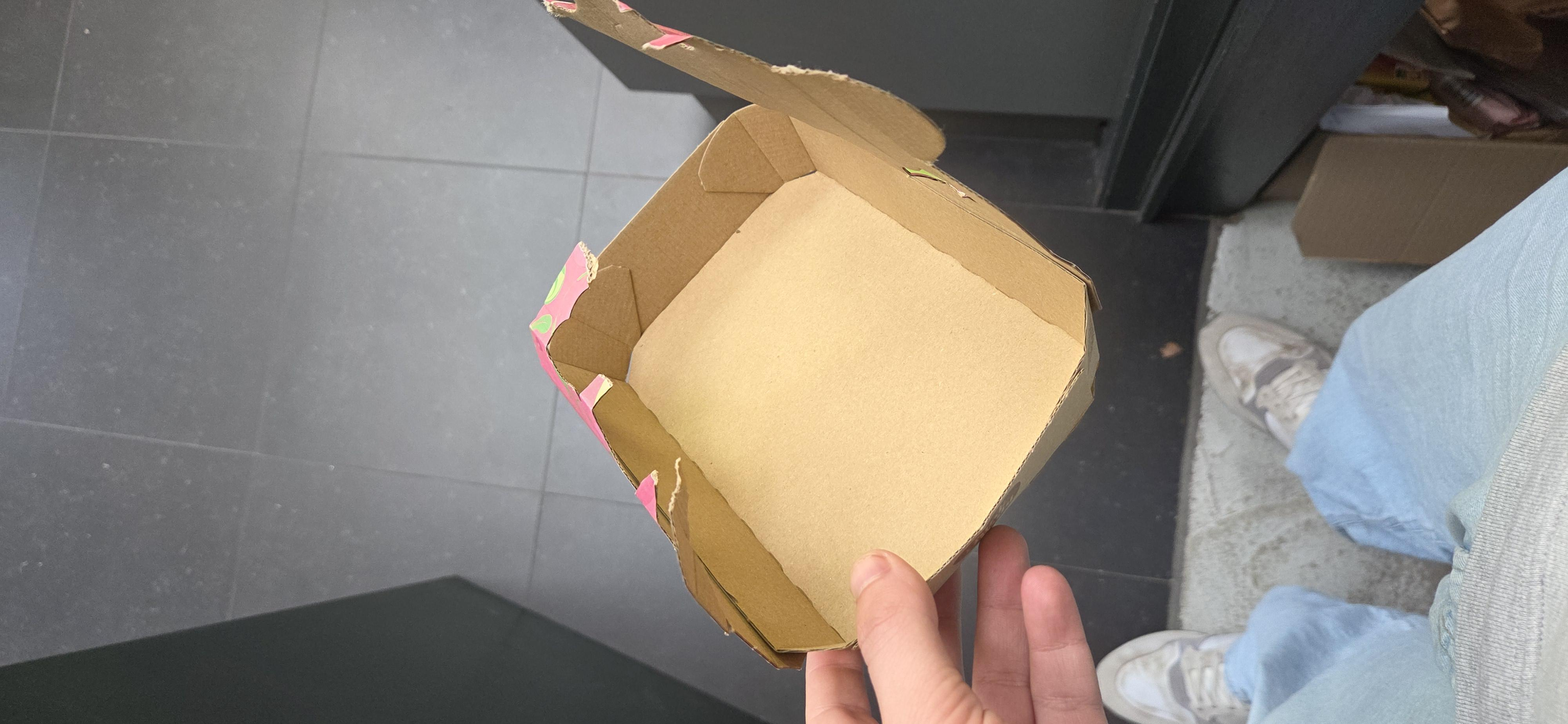Cardboard: (110, 245, 1568, 509)
